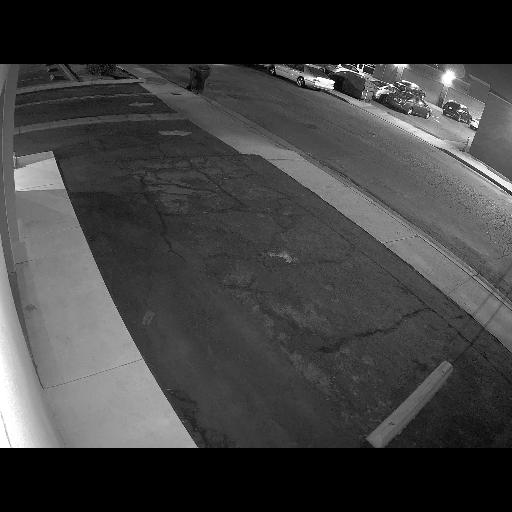car: (269, 64, 335, 93), (371, 88, 430, 118), (369, 78, 404, 104), (394, 79, 427, 101), (441, 101, 472, 124), (325, 64, 366, 78), (469, 116, 482, 130)
